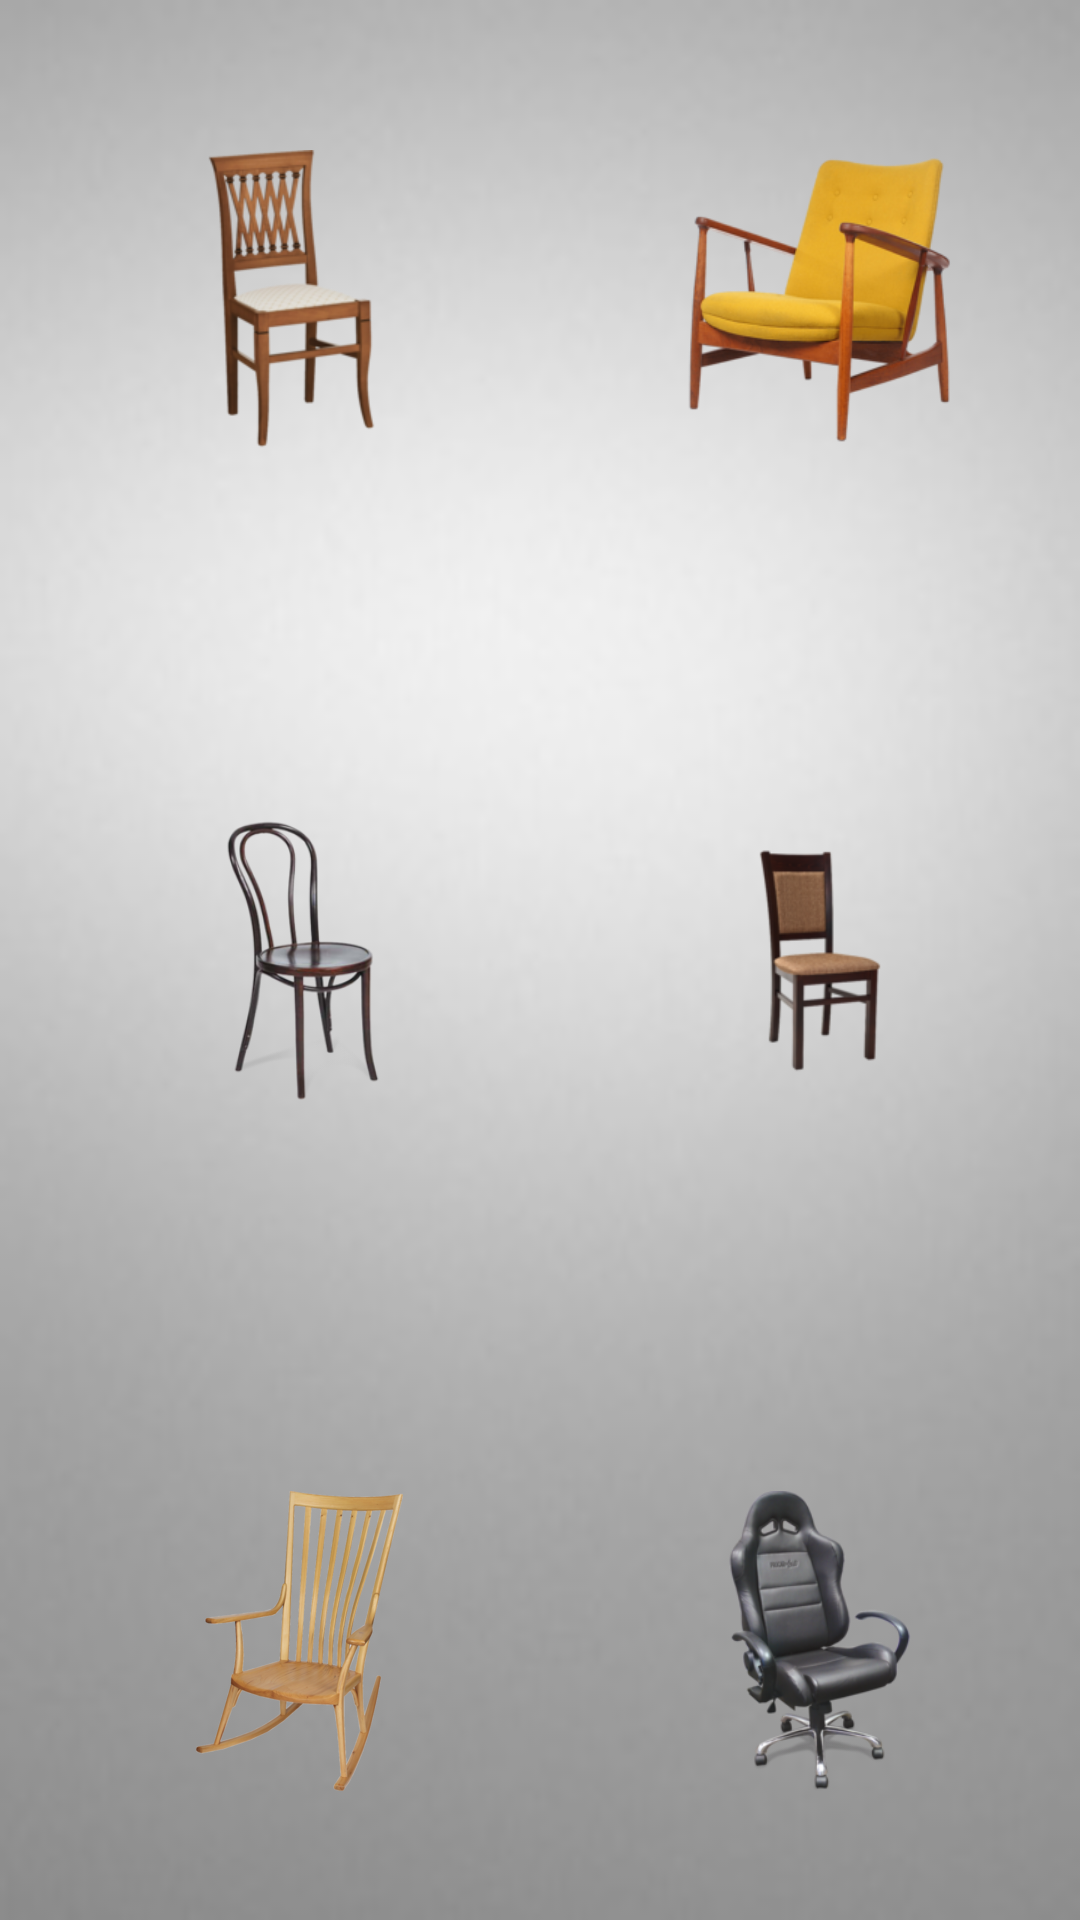

Icon bounding boxes for this 1080×1920 phone screenshot, format (x1, y1, x2, y2):
chair: (149, 150, 449, 450), (670, 158, 954, 450), (149, 810, 449, 1110), (685, 816, 880, 1071), (196, 1491, 403, 1791), (730, 1491, 910, 1789)
